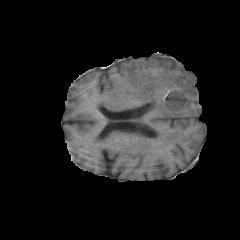glioma: (97, 60, 201, 143)
